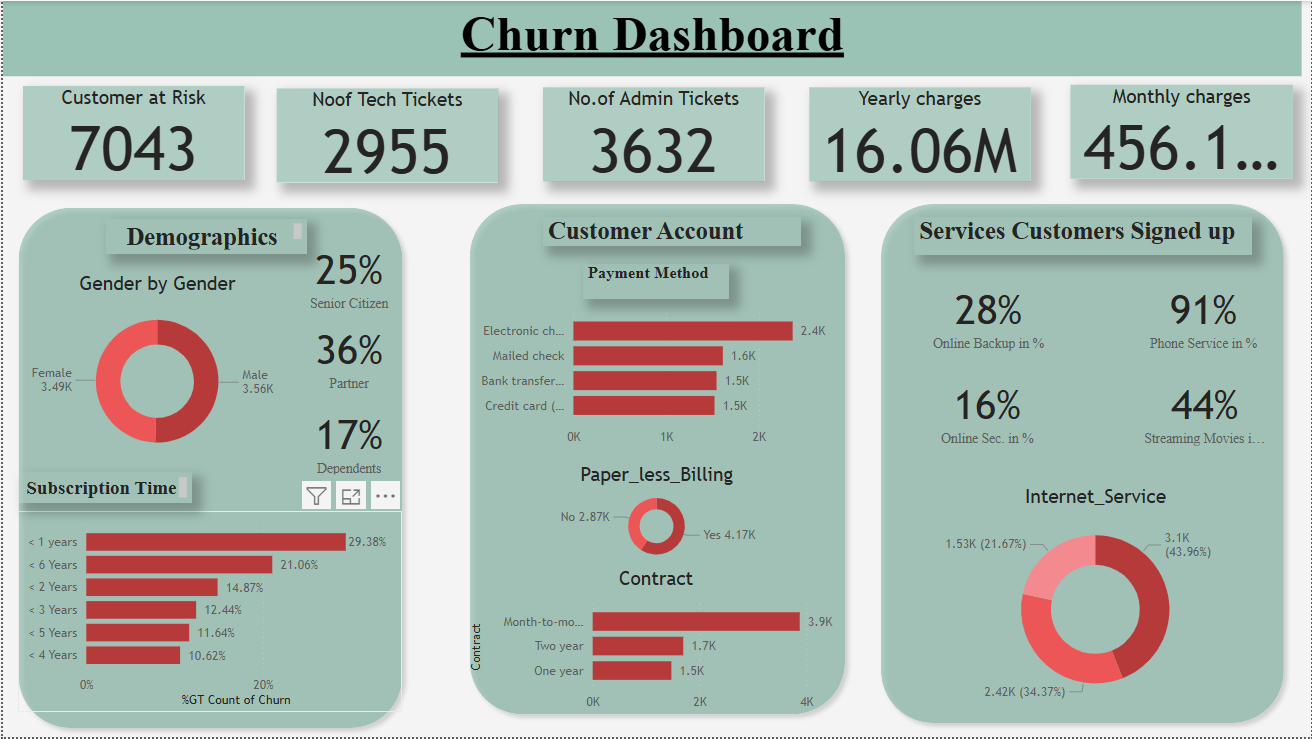

The dashboard page shown, as its layout file describes it:
{"tool":"powerbi","page":{"name":"Churn","canvas":[1280,720],"ordinal":1},"visuals":[{"type":"textbox","box":[0,0,1270.5,73.4],"z":0},{"type":"card","title":"Customer at Risk","fields":{"Values":["CountNonNull(01 Churn-Dataset.customerID)"]},"box":[14.7,83.2,216.4,91.7],"z":1000},{"type":"card","title":"No.of Admin Tickets","fields":{"Values":["Sum(01 Churn-Dataset.numAdminTickets)"]},"box":[524.6,84.4,216.4,91.7],"z":2000},{"type":"card","title":"Noof Tech Tickets","fields":{"Values":["Sum(01 Churn-Dataset.numTechTickets)"]},"box":[262.9,85.6,216.4,91.7],"z":3000},{"type":"card","title":"Yearly charges","fields":{"Values":["Sum(01 Churn-Dataset.TotalCharges)"]},"box":[785.1,84.4,216.4,91.7],"z":4000},{"type":"card","title":"Monthly charges","fields":{"Values":["Sum(01 Churn-Dataset.MonthlyCharges)"]},"box":[1041.9,81.9,220.1,91.7],"z":5000},{"type":"shape","box":[6.1,193.2,393.8,527],"z":6000},{"type":"shape","box":[447.6,189.5,385.2,517.3],"z":7000},{"type":"shape","box":[849.9,189.5,412.1,525.8],"z":8000},{"type":"textbox","box":[100.3,212.8,196.9,35.5],"z":9000},{"type":"textbox","box":[891.4,211.6,330.2,36.7],"z":10000},{"type":"textbox","box":[528.3,211.6,253.1,28.1],"z":11000},{"type":"donutChart","title":"Gender by Gender","fields":{"Category":["01 Churn-Dataset.gender"],"Y":["CountNonNull(01 Churn-Dataset.gender)"]},"box":[19.6,265.4,262.9,192],"z":12000},{"type":"clusteredBarChart","fields":{"Category":["01 Churn-Dataset.Subscriptions"],"Y":["CountNonNull(01 Churn-Dataset.Churn)"]},"box":[14.7,498.9,375.4,196.9],"z":13000},{"type":"card","title":"Senior Citizen","fields":{"Values":["01 Churn-Dataset.% of Senior Citizen"]},"box":[287.4,236,102.7,74.6],"z":14000},{"type":"card","fields":{"Values":["01 Churn-Dataset.% of Partner"]},"box":[287.4,315.5,102.7,73.4],"z":15000},{"type":"card","fields":{"Values":["01 Churn-Dataset.% of Dependents"]},"box":[287.4,397.4,102.7,75.8],"z":16000},{"type":"textbox","box":[15.9,461,168.8,30.6],"z":17000},{"type":"textbox","box":[567.4,256.8,143.1,34.2],"z":18000},{"type":"clusteredBarChart","title":"Payment_Method","fields":{"Category":["01 Churn-Dataset.PaymentMethod"],"Y":["CountNonNull(01 Churn-Dataset.PaymentMethod)"]},"box":[451.2,291,374.2,151.6],"z":19000},{"type":"clusteredBarChart","title":" Contract","fields":{"Category":["01 Churn-Dataset.Contract"],"Y":["CountNonNull(01 Churn-Dataset.Contract)"]},"box":[452.4,553.9,373,148],"z":20000},{"type":"donutChart","title":"Paper_less_Billing","fields":{"Category":["01 Churn-Dataset.PaperlessBilling"],"Y":["CountNonNull(01 Churn-Dataset.PaperlessBilling)"]},"box":[452.4,452.4,374.2,101.5],"z":21000},{"type":"donutChart","title":"Internet_Service","fields":{"Category":["01 Churn-Dataset.InternetService"],"Y":["CountNonNull(01 Churn-Dataset.InternetService)"]},"box":[873.1,473.2,342.4,222.6],"z":22000},{"type":"card","fields":{"Values":["01 Churn-Dataset.Online Backup in %"]},"box":[898.8,273.9,130.8,78.3],"z":23000},{"type":"card","fields":{"Values":["01 Churn-Dataset.Online Sec. in %"]},"box":[897.6,366.8,130.8,78.3],"z":24000},{"type":"card","fields":{"Values":["01 Churn-Dataset.Streaming Movies in %"]},"box":[1110.3,366.8,130.8,78.3],"z":25000},{"type":"card","fields":{"Values":["01 Churn-Dataset.Phone Service in %"]},"box":[1109.1,273.9,130.8,78.3],"z":26000}]}

Visuals, with their boxes in screenshot pixels (x1, y1, x2, y2), scaled from the page's 1280x720 canvas onto the 1312x739 screenshot:
textbox: 0, 0, 1302, 75
"Customer at Risk" card: 15, 85, 237, 180
"No.of Admin Tickets" card: 538, 87, 760, 181
"Noof Tech Tickets" card: 269, 88, 491, 182
"Yearly charges" card: 805, 87, 1027, 181
"Monthly charges" card: 1068, 84, 1294, 178
shape: 6, 198, 410, 738
shape: 459, 195, 854, 725
shape: 871, 195, 1294, 734
textbox: 103, 218, 305, 255
textbox: 914, 217, 1252, 255
textbox: 542, 217, 801, 246
"Gender by Gender" donutChart: 20, 272, 290, 469
clusteredBarChart - 01 Churn-Dataset.Subscriptions x CountNonNull(01 Churn-Dataset.Churn): 15, 512, 400, 714
"Senior Citizen" card: 295, 242, 400, 319
card - 01 Churn-Dataset.% of Partner: 295, 324, 400, 399
card - 01 Churn-Dataset.% of Dependents: 295, 408, 400, 486
textbox: 16, 473, 189, 505
textbox: 582, 264, 728, 299
"Payment_Method" clusteredBarChart: 462, 299, 846, 454
" Contract" clusteredBarChart: 464, 569, 846, 720
"Paper_less_Billing" donutChart: 464, 464, 847, 569
"Internet_Service" donutChart: 895, 486, 1246, 714
card - 01 Churn-Dataset.Online Backup in %: 921, 281, 1055, 361
card - 01 Churn-Dataset.Online Sec. in %: 920, 376, 1054, 457
card - 01 Churn-Dataset.Streaming Movies in %: 1138, 376, 1272, 457
card - 01 Churn-Dataset.Phone Service in %: 1137, 281, 1271, 361
